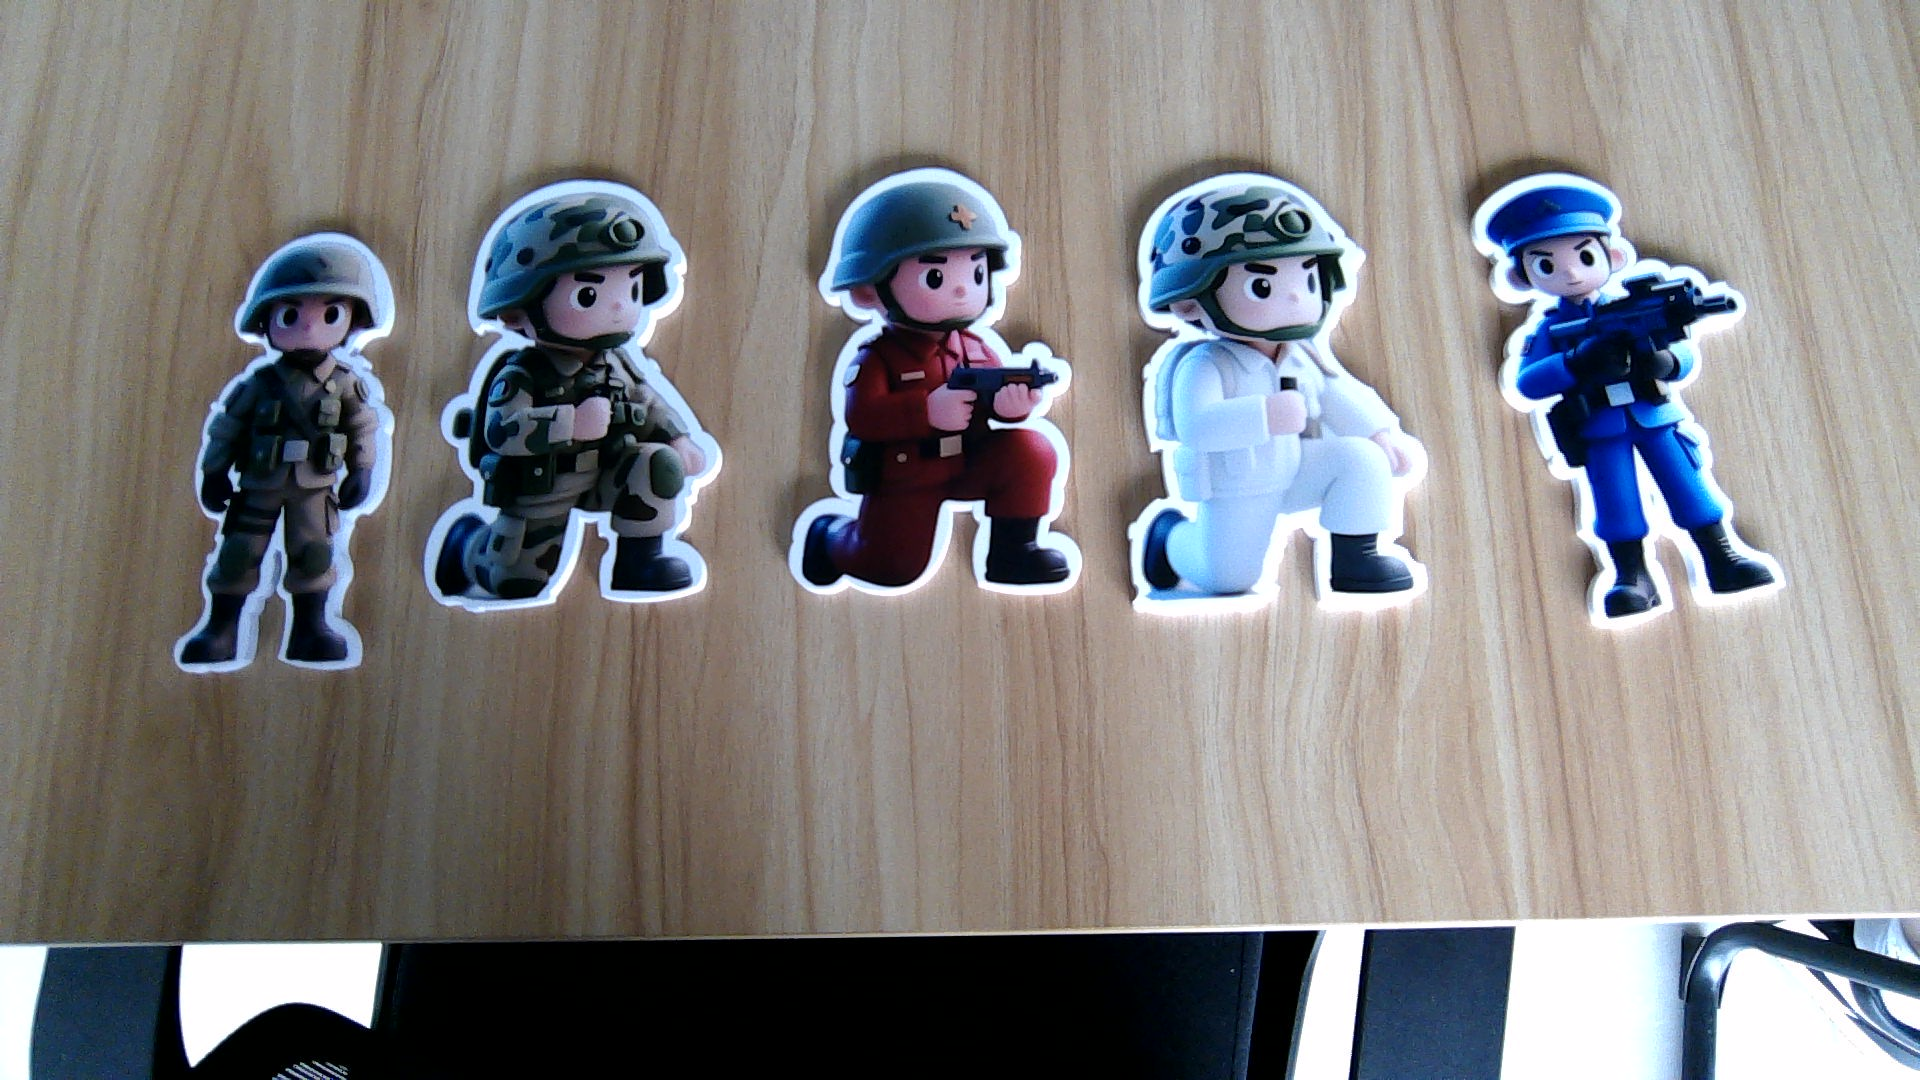人质: (1127, 348, 1429, 618)
友军: (422, 351, 725, 618), (173, 351, 396, 678)
敌人1: (785, 336, 1085, 612)
敌人2: (1487, 297, 1803, 626)
